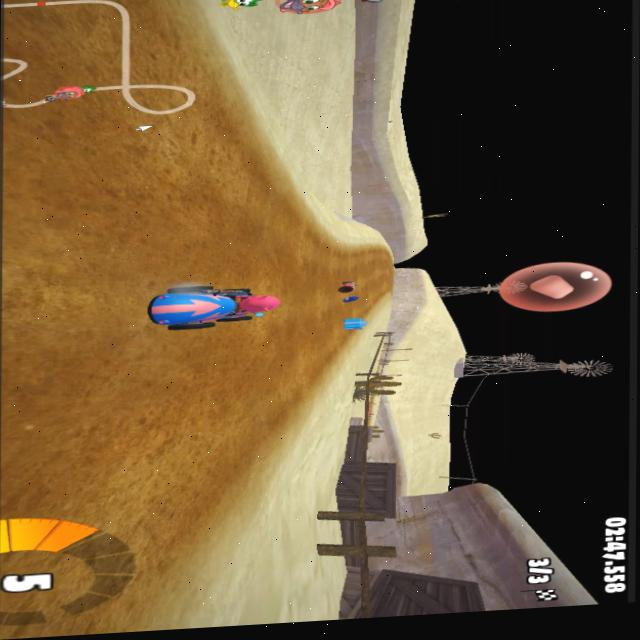bonus: (341, 313, 371, 332)
nitro: (346, 294, 365, 303)
player_kart: (148, 273, 288, 339)
